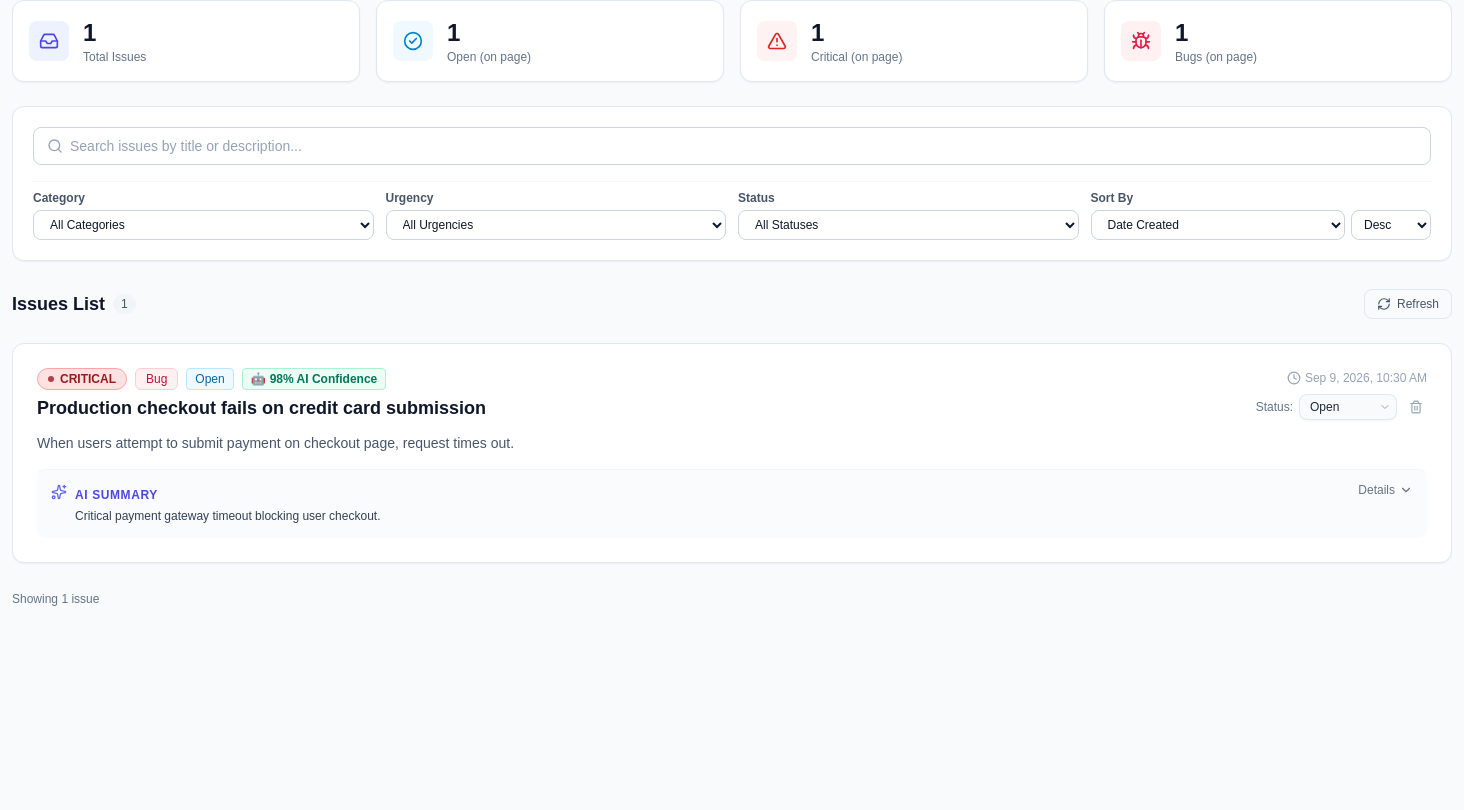
Test: Dashboard Component › allows expanding AI details on issue card
Expected: the heading "Production checkout fails on credit card submission" is shown, [37,396,486,421]
Click the button with test id "toggle-details-issue-1" at (1386, 490), box [1358,482,1413,498]
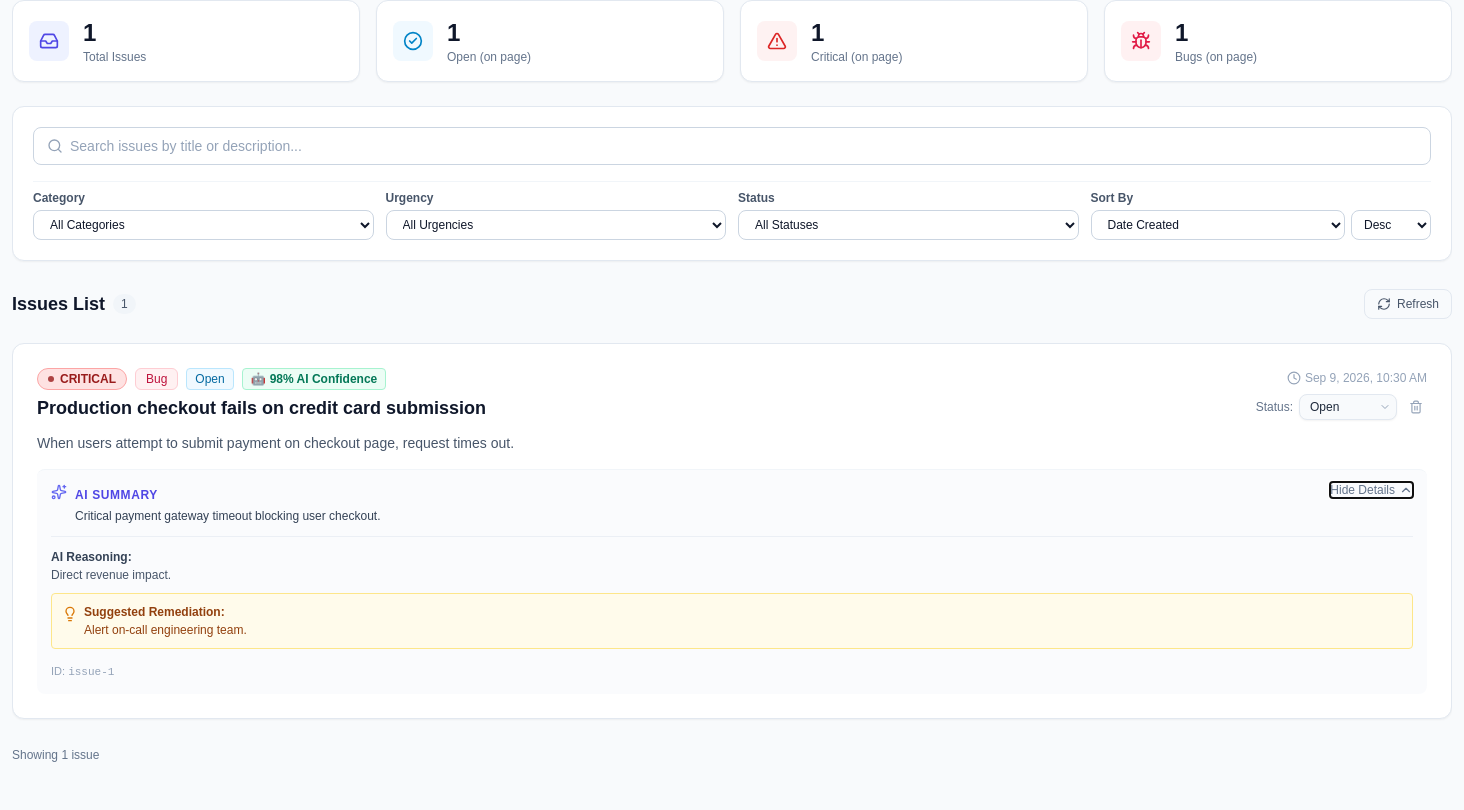
Expected: the text "Direct revenue impact." is shown, [51,568,171,582]
Expected: the text "Alert on-call engineering team." is shown, [84,622,247,638]
